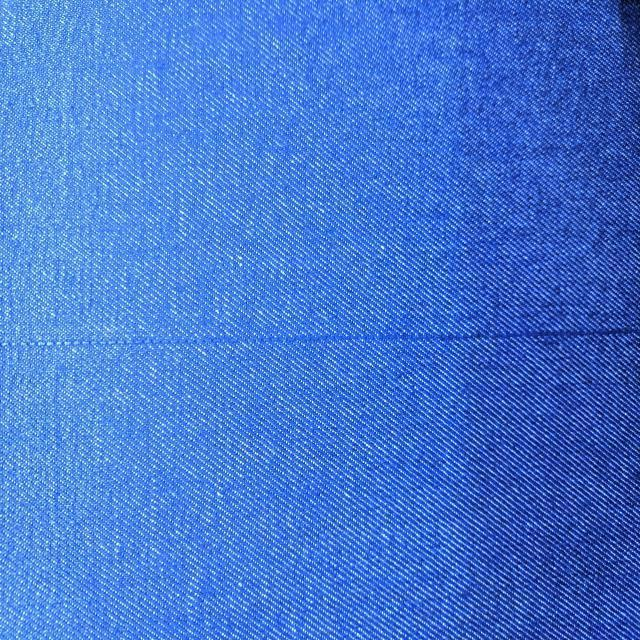Line: (0, 325, 638, 349)
